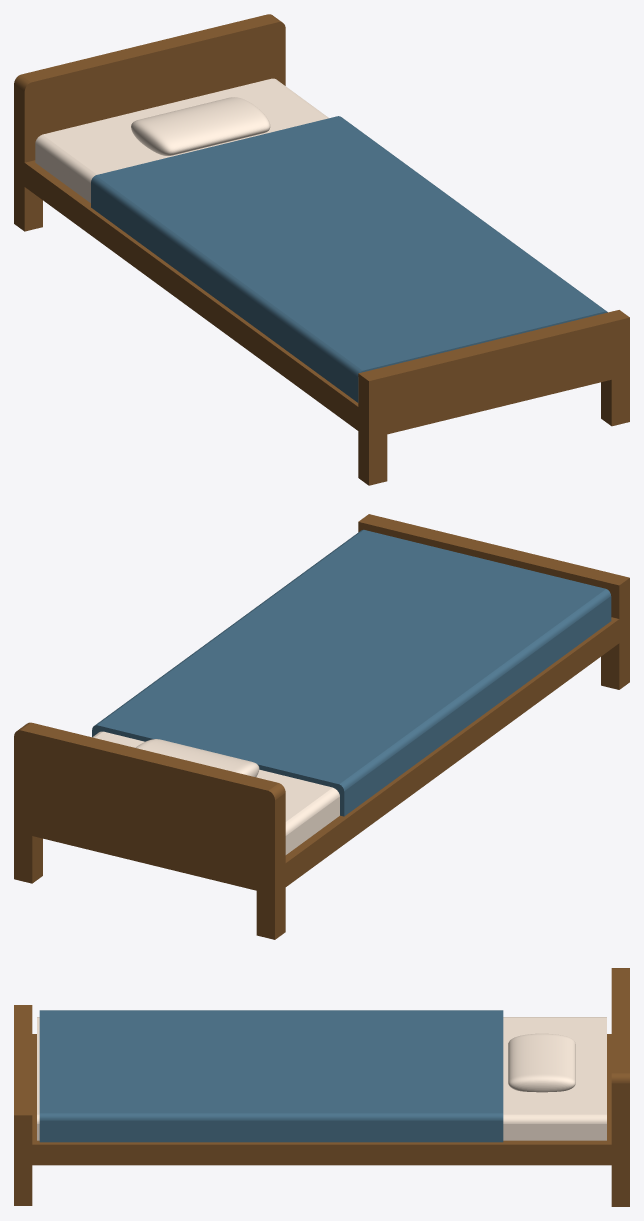
File: boxbed.fbx
3 views of the same model, one above another, from view 1: azimuth 30°, elevation 25°; view 2: azimuth 150°, elevation 25°; view 3: azimuth 270°, elevation 25° (orthographic). The views are drawn at different scales.
Visible parts, largest first — view 1: sheet, Bedframe, mattress, pillow; view 2: sheet, Bedframe, mattress, pillow; view 3: sheet, Bedframe, mattress, pillow.
Part boxes in pixels (box(x1,y1,x2,y2)): sheet: box(91, 116, 607, 402); Bedframe: box(14, 14, 629, 485); mattress: box(35, 78, 328, 202); pillow: box(131, 97, 270, 155); sheet: box(92, 529, 611, 816); Bedframe: box(14, 514, 629, 939); mattress: box(92, 731, 339, 854); pillow: box(135, 739, 259, 777); sheet: box(39, 1010, 503, 1142); Bedframe: box(14, 968, 629, 1206); mattress: box(37, 1017, 606, 1140); pillow: box(508, 1033, 575, 1092).
Size of the model in its own units: 91.44 by 50.39 by 215.
